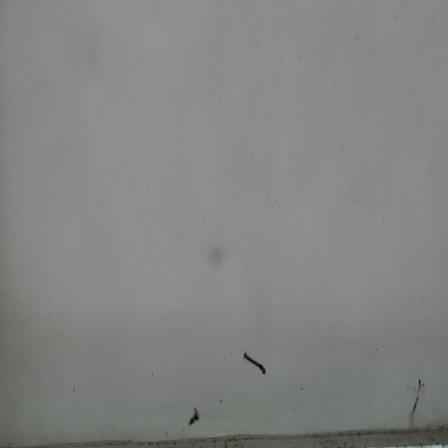Jentik-Nyamuk: (240, 349, 268, 376), (184, 406, 202, 429)
